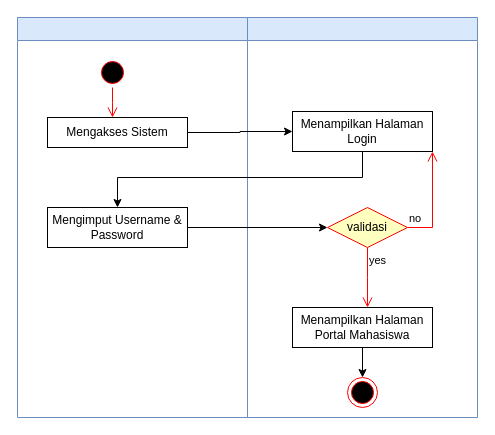
Image size: 495x435. Some labels were removed from this diagram. The box of each missing label's shape, as (x1, y1, x2, y2) in pixels:
Mahasiswa: (16, 16, 248, 418)
Sistem: (246, 16, 478, 418)
